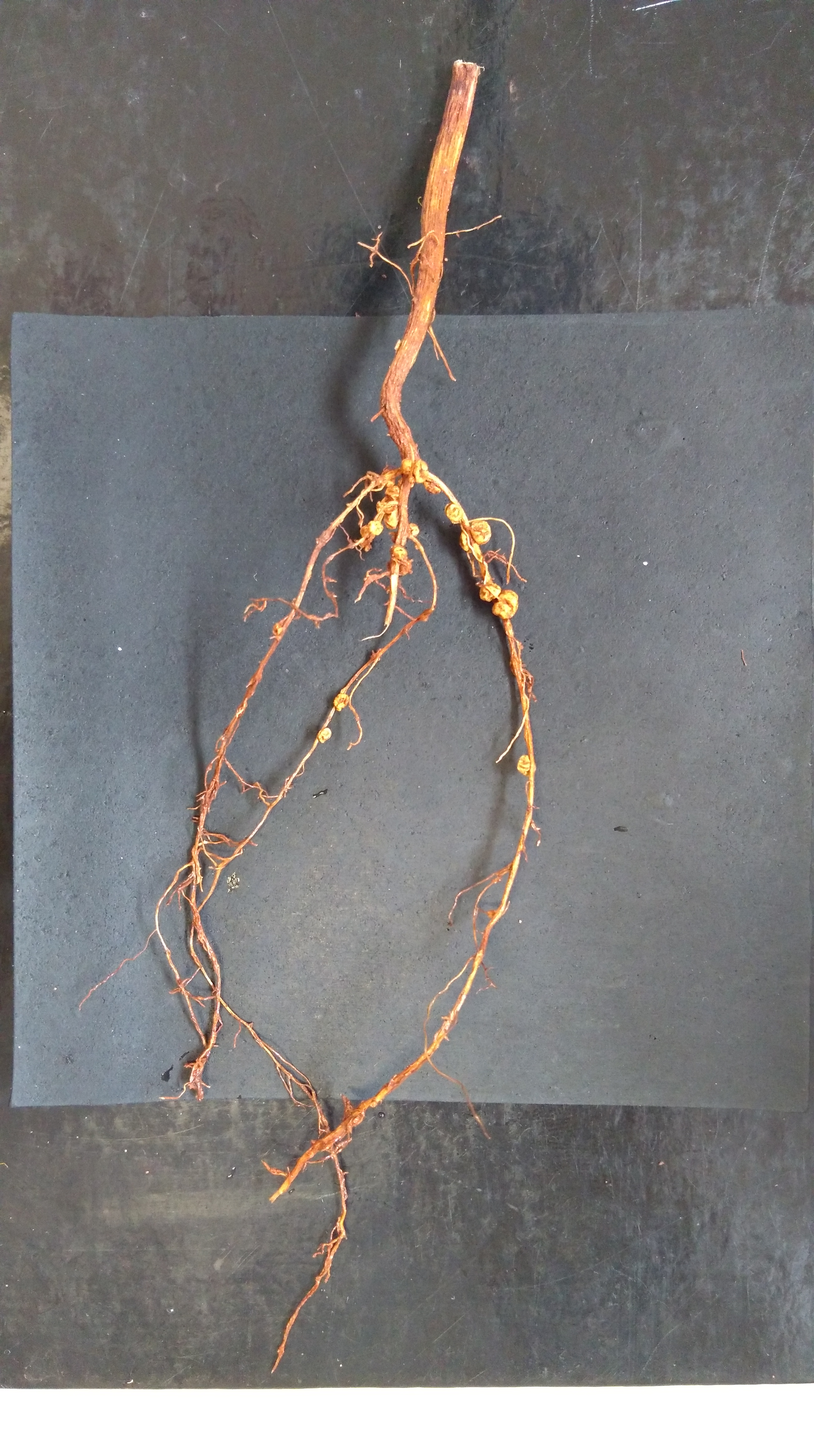nodule: (490, 587, 520, 621), (469, 519, 493, 546), (477, 581, 503, 602), (515, 754, 539, 776), (389, 557, 412, 577), (444, 502, 463, 525), (382, 508, 400, 530), (413, 458, 428, 484), (421, 480, 443, 495), (378, 469, 396, 487), (332, 693, 349, 712), (367, 519, 384, 536), (458, 530, 470, 552), (317, 727, 332, 744), (384, 484, 401, 499), (400, 457, 413, 475), (392, 546, 408, 560), (409, 522, 420, 539), (360, 524, 371, 539), (272, 622, 282, 635), (407, 475, 415, 488), (397, 476, 405, 487)
